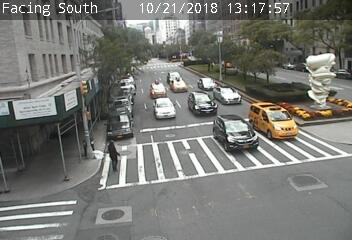car: (251, 105, 295, 137), (218, 119, 258, 152), (153, 101, 177, 121), (214, 85, 238, 104), (189, 94, 210, 114), (146, 82, 166, 97), (171, 81, 188, 90), (169, 72, 180, 79), (199, 78, 210, 84)
